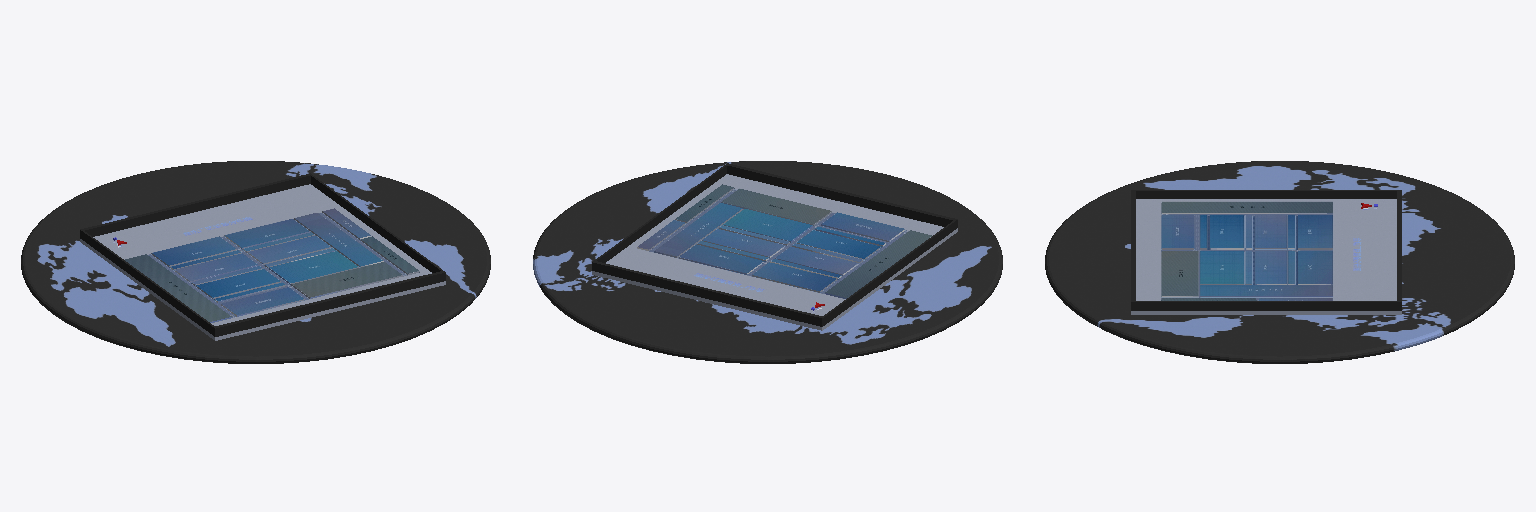
3 views of the same model, side by side, from view 1: azimuth 30°, elevation 25°; view 2: azimuth 150°, elevation 25°; view 3: azimuth 270°, elevation 25° (orthographic).
Visible parts, largest first — view 1: ChamferCyl001, Box002, map, bar1, bar; view 2: ChamferCyl001, Box002, map, bar1, bar; view 3: ChamferCyl001, Box002, map, bar1, bar.
Boxes of the visible parts, x1,y1,x2,y2 form: ChamferCyl001: [21, 161, 490, 363]; Box002: [125, 208, 419, 322]; map: [93, 184, 431, 325]; bar1: [80, 173, 445, 336]; bar: [80, 239, 445, 340]; ChamferCyl001: [533, 161, 1002, 363]; Box002: [637, 184, 931, 298]; map: [606, 174, 943, 315]; bar1: [592, 163, 957, 326]; bar: [592, 228, 957, 330]; ChamferCyl001: [1045, 161, 1514, 363]; Box002: [1162, 201, 1332, 300]; map: [1136, 199, 1396, 300]; bar1: [1131, 190, 1401, 310]; bar: [1131, 311, 1401, 314].
Bounding box in the file's own units: 3746 × 178 × 3746.
Materials: 5 (2 with a texture image).